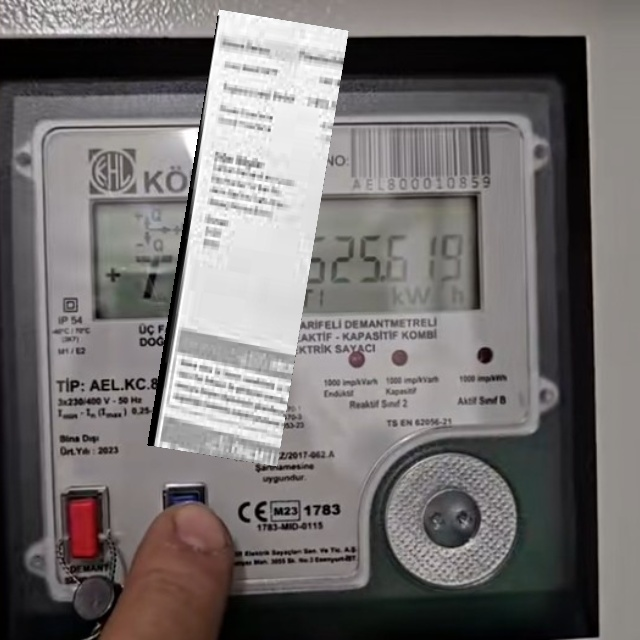electricity-bill: (147, 9, 349, 467)
